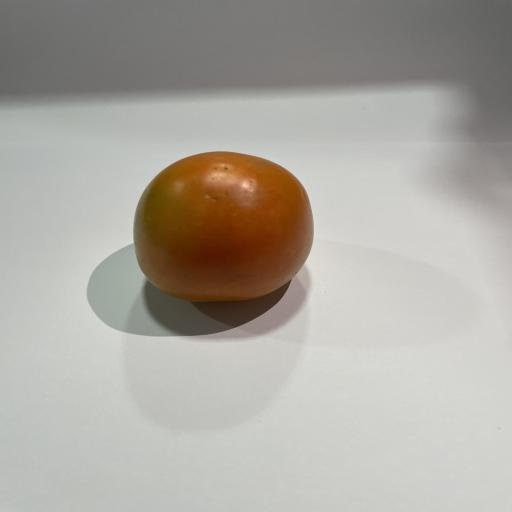ripe: (134, 152, 313, 301)
